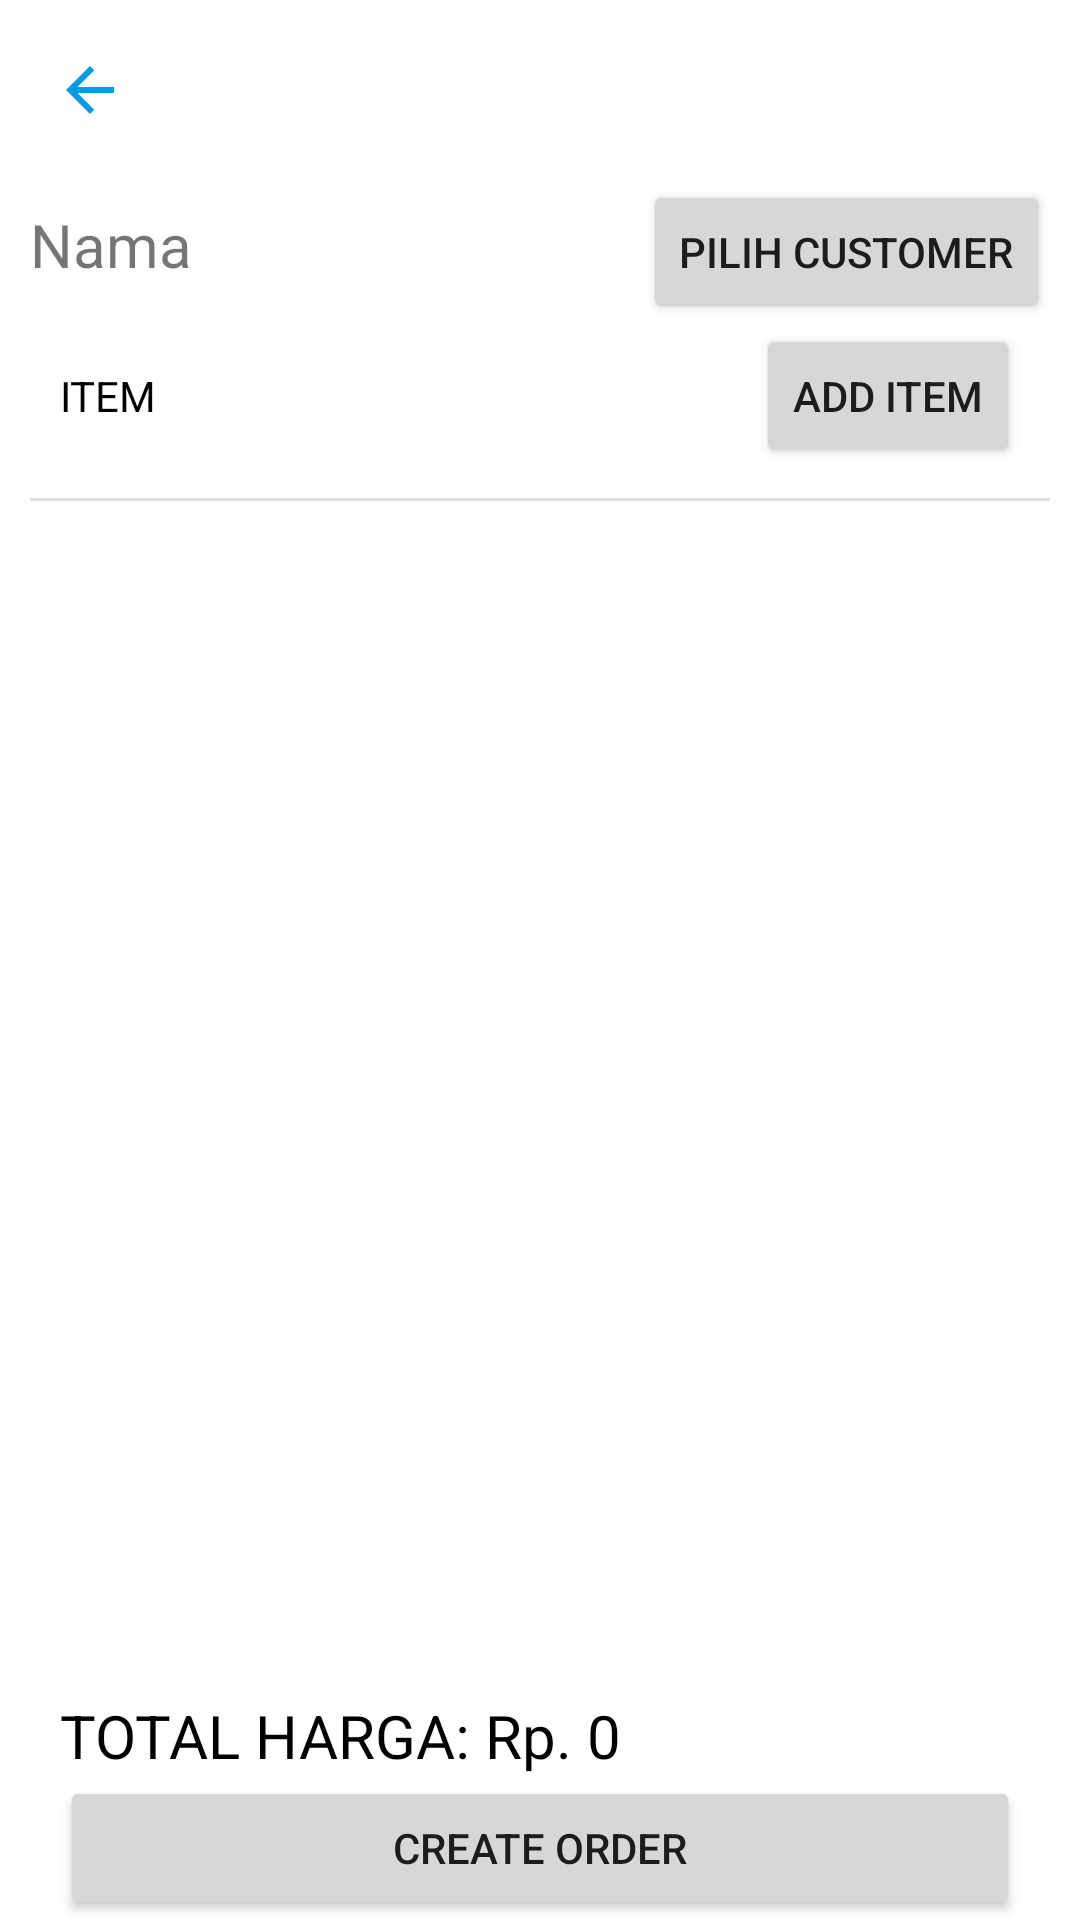

Icon click points for this 1080px×1920px phone screenshot, format (x=x, y=y):
arrow back for frag: (x=90, y=90)
